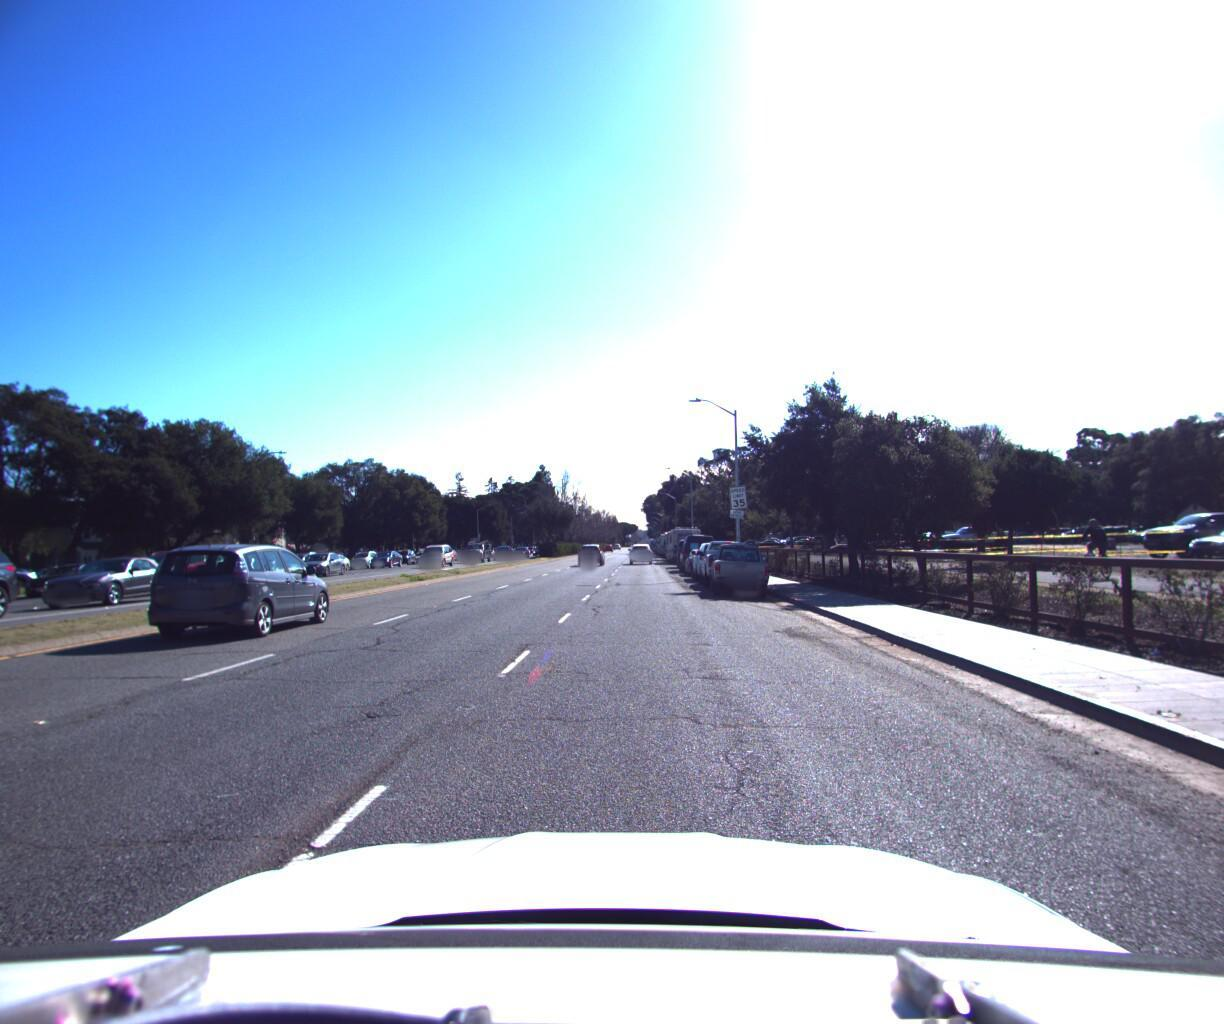bicycle: (1066, 511, 1128, 574)
car: (130, 525, 340, 646), (41, 551, 189, 607), (703, 535, 776, 597), (15, 558, 121, 598), (691, 532, 766, 585), (0, 535, 34, 644), (684, 533, 747, 578), (672, 526, 718, 568), (290, 546, 352, 574), (679, 541, 727, 573), (416, 538, 455, 563), (344, 544, 383, 566), (457, 534, 491, 558), (575, 538, 606, 562), (627, 538, 651, 559)
other_vehicle: (659, 519, 702, 558)
